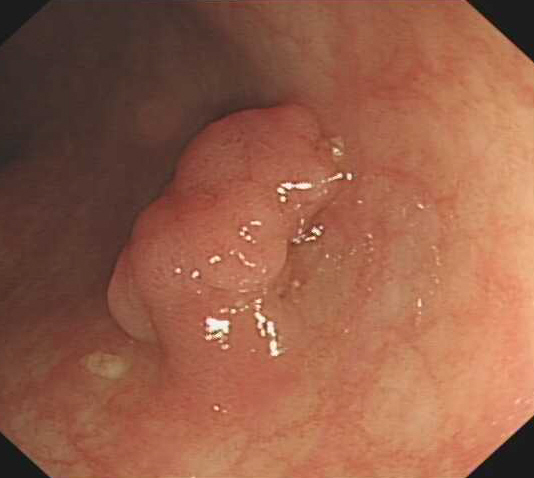adenoma: (106, 101, 343, 358)
